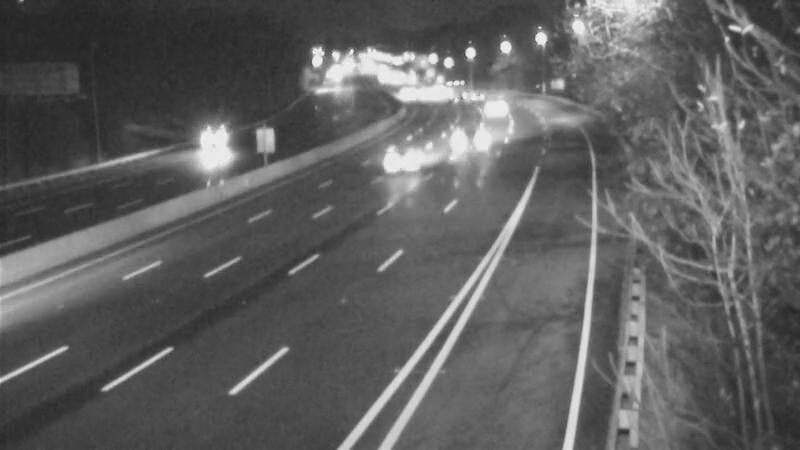vehicle: (377, 112, 457, 192), (382, 67, 432, 117), (430, 64, 480, 114), (453, 74, 503, 124), (463, 86, 513, 136), (447, 110, 497, 160), (202, 123, 252, 173)
